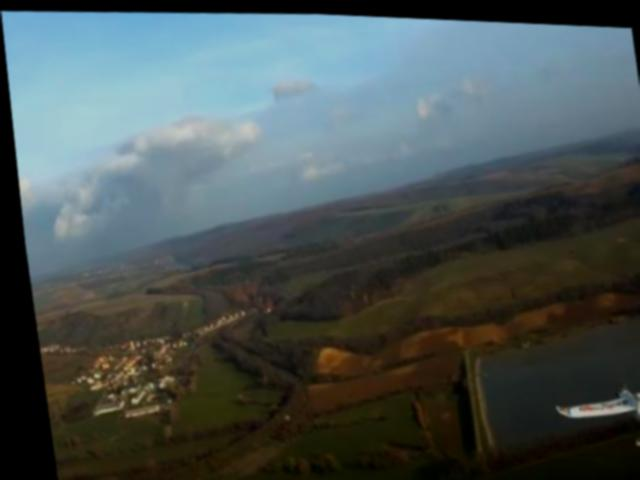iha: (539, 356, 640, 442)
